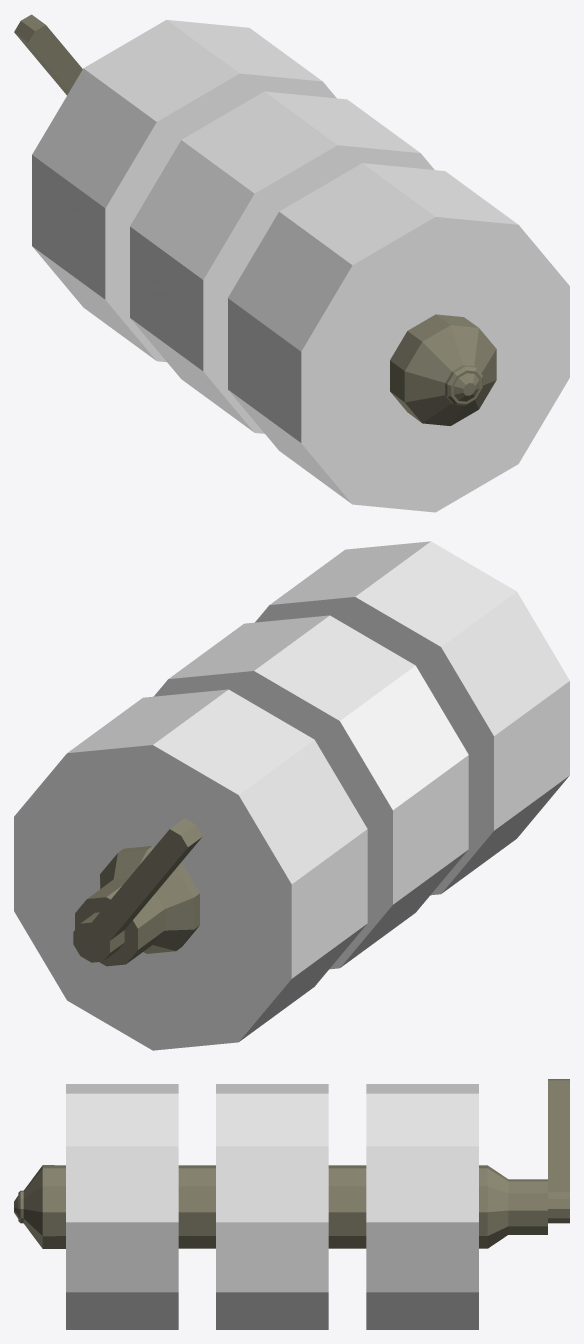
Rendered from Rueditas.glb.
The picture shows the model from 3 angles, top to bottom: view 1: azimuth 30°, elevation 25°; view 2: azimuth 150°, elevation 25°; view 3: azimuth 270°, elevation 25°; orthographic projection. The views are drawn at different scales.
Visible parts, largest first — view 1: Cylinder.001, Cylinder, Cylinder.002, Cylinder.004; view 2: Cylinder, Cylinder.002, Cylinder.001, Cylinder.004; view 3: Cylinder, Cylinder.001, Cylinder.002, Cylinder.004.
Boxes of the visible parts, <box> form: Cylinder.001: <box>228,163,569,512</box>; Cylinder: <box>32,20,336,362</box>; Cylinder.002: <box>130,91,434,433</box>; Cylinder.004: <box>14,14,496,425</box>; Cylinder: <box>14,689,367,1050</box>; Cylinder.002: <box>154,615,468,969</box>; Cylinder.001: <box>255,541,569,895</box>; Cylinder.004: <box>73,818,202,966</box>; Cylinder: <box>366,1084,478,1329</box>; Cylinder.001: <box>66,1084,178,1329</box>; Cylinder.002: <box>216,1084,328,1329</box>; Cylinder.004: <box>14,1079,569,1248</box>.
Size of the model in its own units: 1.9 by 2 by 4.44.
